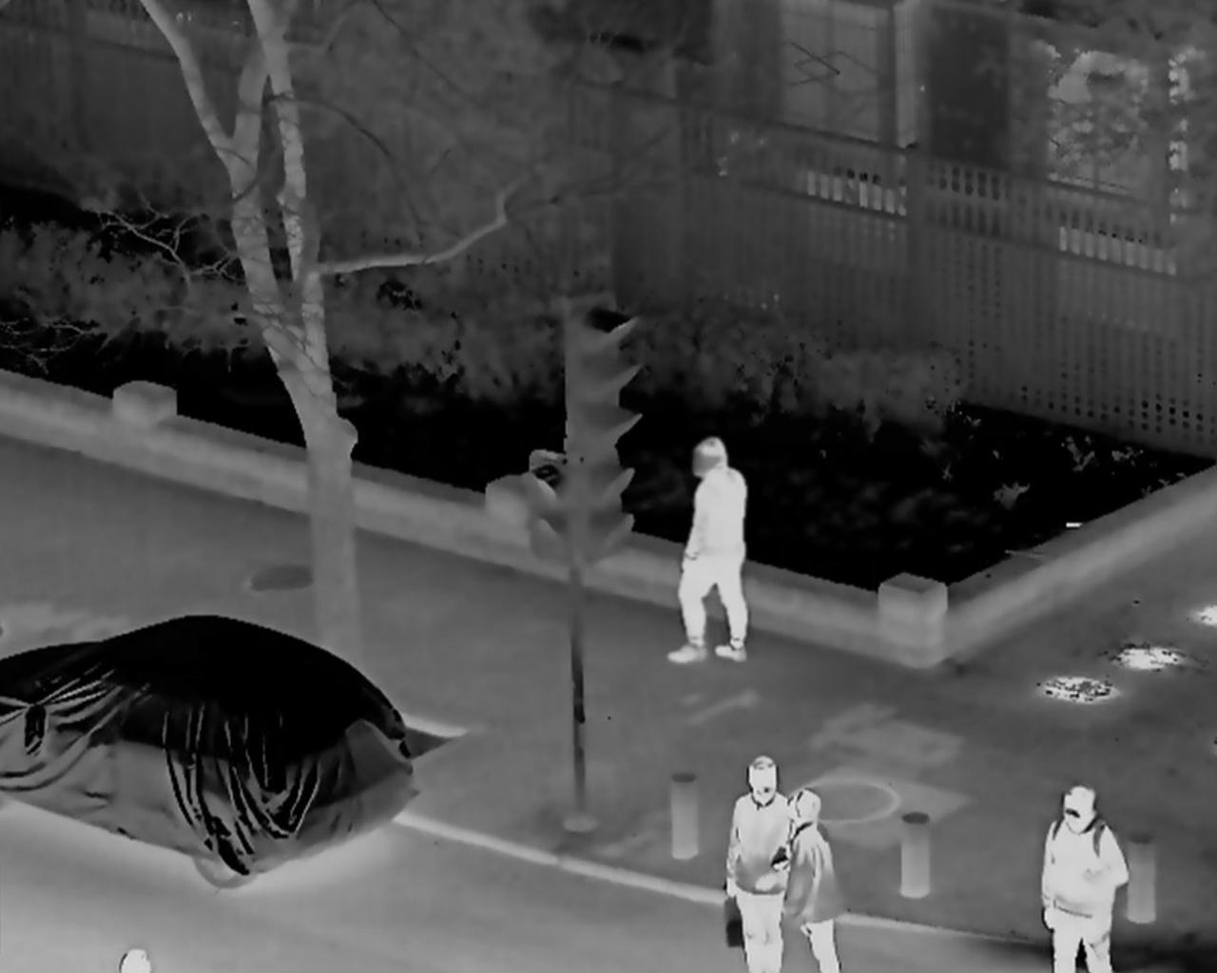person: (673, 439, 751, 665), (1037, 787, 1127, 971), (727, 760, 793, 973), (782, 791, 838, 973)
